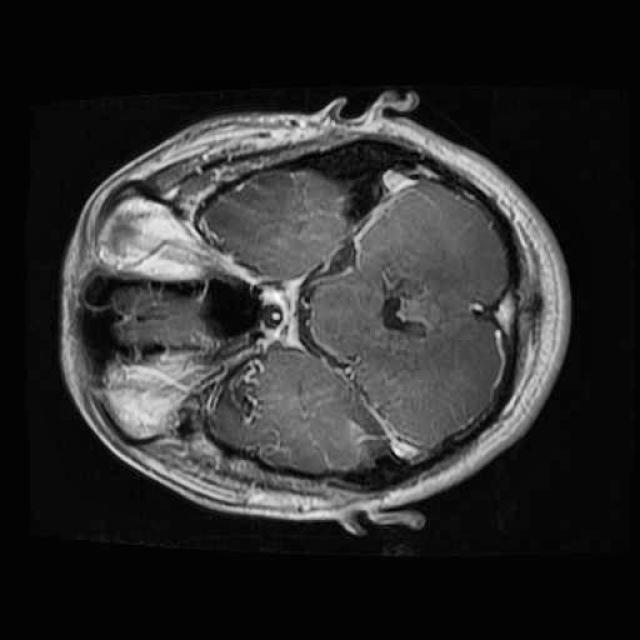Tumor: (213, 343, 278, 433)
